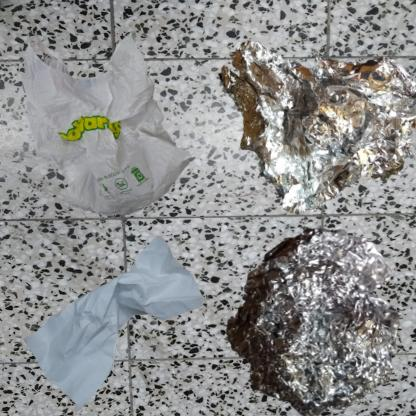aluminio: (213, 10, 416, 230), (213, 213, 416, 416)
bolsa: (10, 10, 213, 246)
papel: (10, 213, 222, 416)
